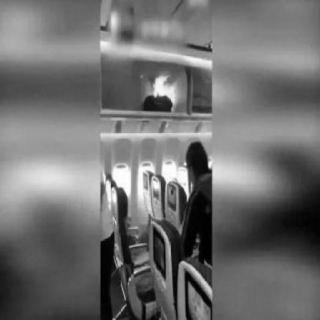Fire: (131, 51, 185, 114)
